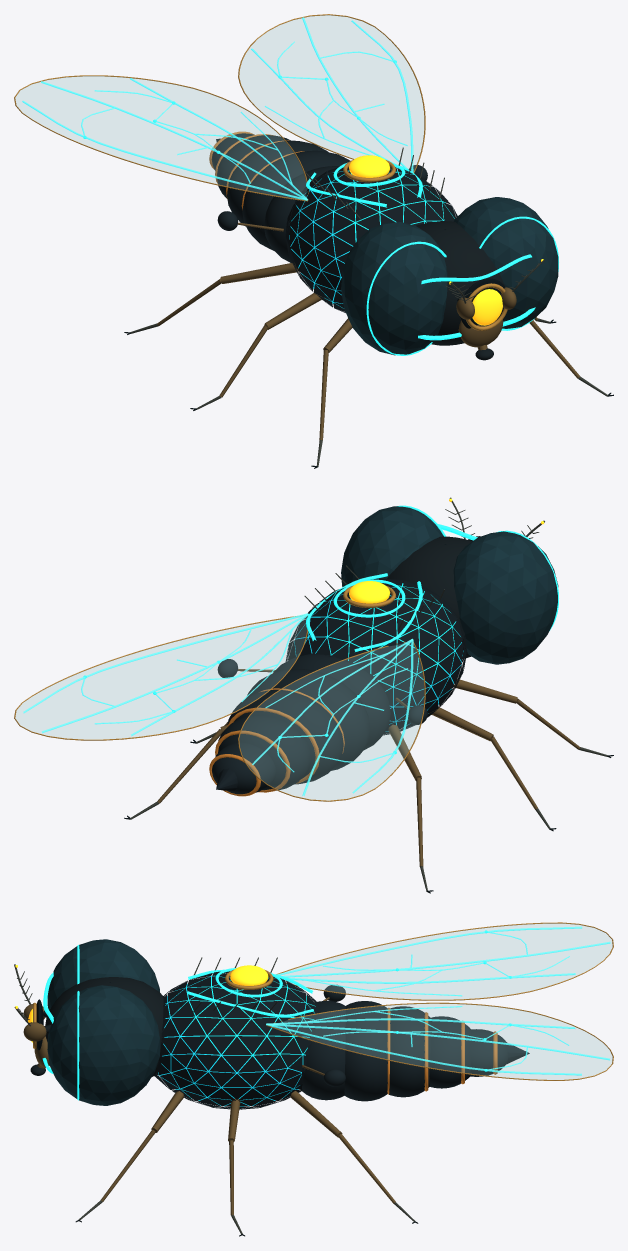
File: mirror-gap-v0.1.0.glb
3 views of the same model, one above another, from view 1: azimuth 30°, elevation 25°; view 2: azimuth 150°, elevation 25°; view 3: azimuth 270°, elevation 25° (orthographic). The views are drawn at different scales.
Visible parts, largest first — view 1: Thin_wing_membrane (×2), Left_compound_eye, Faceted_obsidian_thorax, Right_compound_eye, Head_capsule, Abdominal_segment_2, Thorax_inner_cyan_fissures, Costal_wing_gold_edge (×2), Abdominal_segment_1, Abdominal_segment_3, Abdominal_segment_4, Facial_amber_core (+6 smaller); view 2: Thin_wing_membrane (×2), Faceted_obsidian_thorax, Left_compound_eye, Right_compound_eye, Abdominal_segment_2, Abdominal_segment_3, Abdominal_segment_4, Head_capsule, Abdominal_segment_1, Thorax_inner_cyan_fissures, Costal_wing_gold_edge (×2), Abdominal_segment_5 (+6 smaller); view 3: Thin_wing_membrane (×2), Faceted_obsidian_thorax, Right_compound_eye, Abdominal_segment_2, Left_compound_eye, Thorax_inner_cyan_fissures, Abdominal_segment_3, Abdominal_segment_1, Abdominal_segment_4, Costal_wing_gold_edge (×2), Head_capsule, Cyan_neural_wing_vein_2 (×2) (+6 smaller).
Boxes of the visible parts, bbox=[...] form: Thin_wing_membrane (×2): bbox=[15, 15, 423, 198]; Left_compound_eye: bbox=[341, 222, 447, 355]; Faceted_obsidian_thorax: bbox=[285, 167, 457, 312]; Right_compound_eye: bbox=[454, 197, 558, 328]; Head_capsule: bbox=[416, 221, 505, 345]; Abdominal_segment_2: bbox=[242, 150, 350, 250]; Thorax_inner_cyan_fissures: bbox=[289, 169, 454, 308]; Costal_wing_gold_edge (×2): bbox=[14, 14, 425, 201]; Abdominal_segment_1: bbox=[264, 166, 339, 262]; Abdominal_segment_3: bbox=[227, 140, 328, 226]; Abdominal_segment_4: bbox=[217, 135, 290, 198]; Facial_amber_core: bbox=[472, 289, 502, 325]; Thin_wing_membrane (×2): bbox=[15, 617, 423, 800]; Faceted_obsidian_thorax: bbox=[285, 578, 466, 735]; Left_compound_eye: bbox=[453, 531, 558, 664]; Right_compound_eye: bbox=[341, 506, 443, 586]; Abdominal_segment_2: bbox=[246, 668, 370, 770]; Abdominal_segment_3: bbox=[227, 689, 343, 784]; Abdominal_segment_4: bbox=[218, 715, 311, 790]; Head_capsule: bbox=[386, 536, 472, 658]; Abdominal_segment_1: bbox=[273, 653, 390, 750]; Thorax_inner_cyan_fissures: bbox=[294, 583, 463, 731]; Costal_wing_gold_edge (×2): bbox=[14, 615, 425, 801]; Abdominal_segment_5: bbox=[212, 742, 276, 794]; Thin_wing_membrane (×2): bbox=[275, 923, 612, 1079]; Faceted_obsidian_thorax: bbox=[154, 971, 319, 1109]; Right_compound_eye: bbox=[47, 985, 160, 1105]; Abdominal_segment_2: bbox=[344, 1001, 387, 1101]; Left_compound_eye: bbox=[47, 939, 159, 1009]; Thorax_inner_cyan_fissures: bbox=[158, 975, 315, 1106]; Abdominal_segment_3: bbox=[389, 1006, 430, 1097]; Abdominal_segment_1: bbox=[300, 1000, 345, 1100]; Abdominal_segment_4: bbox=[429, 1016, 471, 1088]; Costal_wing_gold_edge (×2): bbox=[266, 922, 613, 1080]; Head_capsule: bbox=[45, 977, 165, 1076]; Cyan_neural_wing_vein_2 (×2): bbox=[268, 941, 610, 1060].
Size of the model in its own units: 1.1 by 0.6012 by 1.72.
